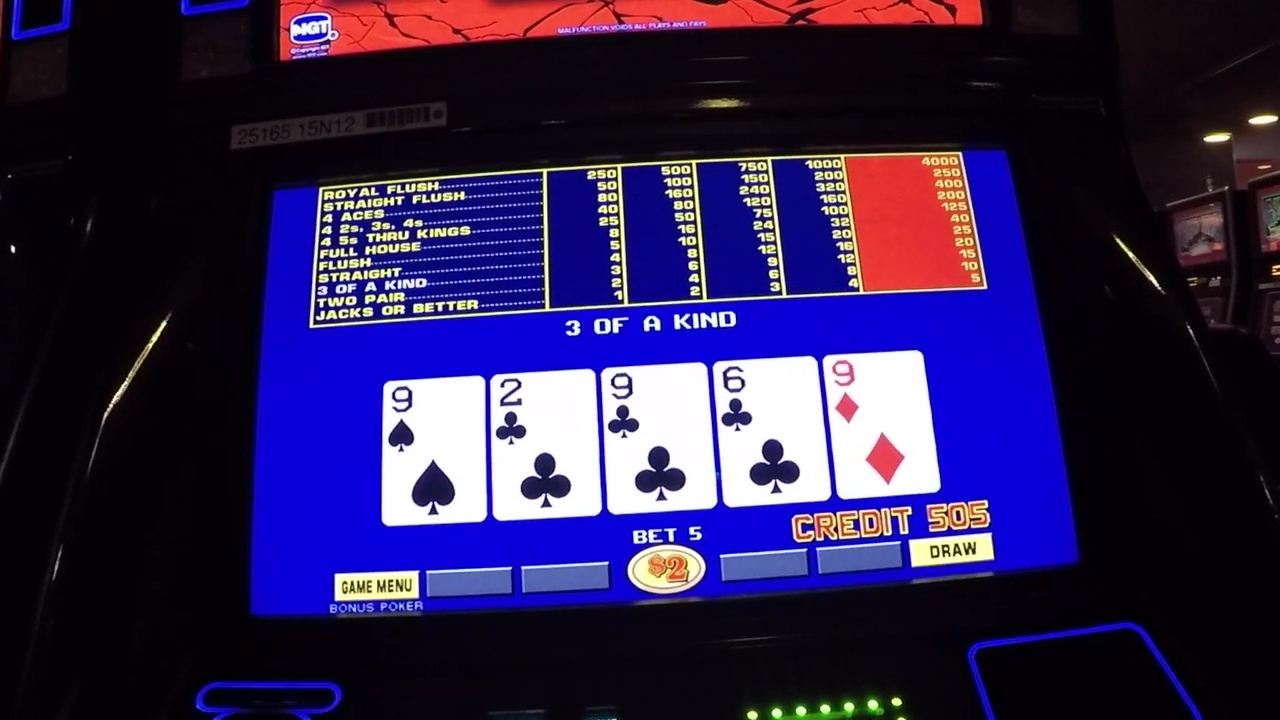C2: (493, 374, 594, 446)
C6: (722, 361, 817, 439)
C9: (606, 368, 704, 447)
D9: (832, 359, 927, 429)
S9: (385, 384, 482, 453)
